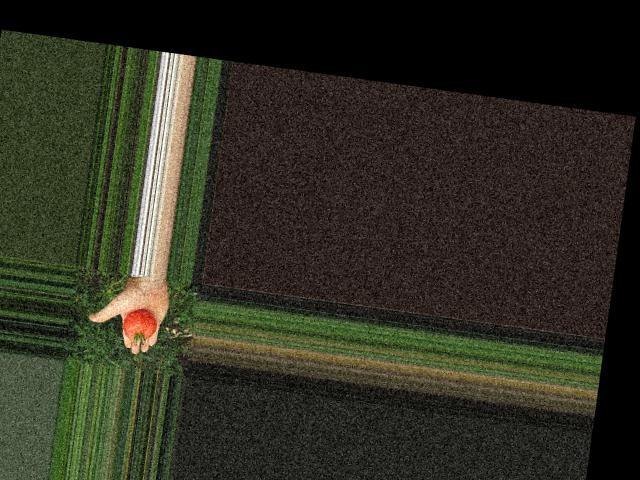tomato: (121, 307, 159, 341)
